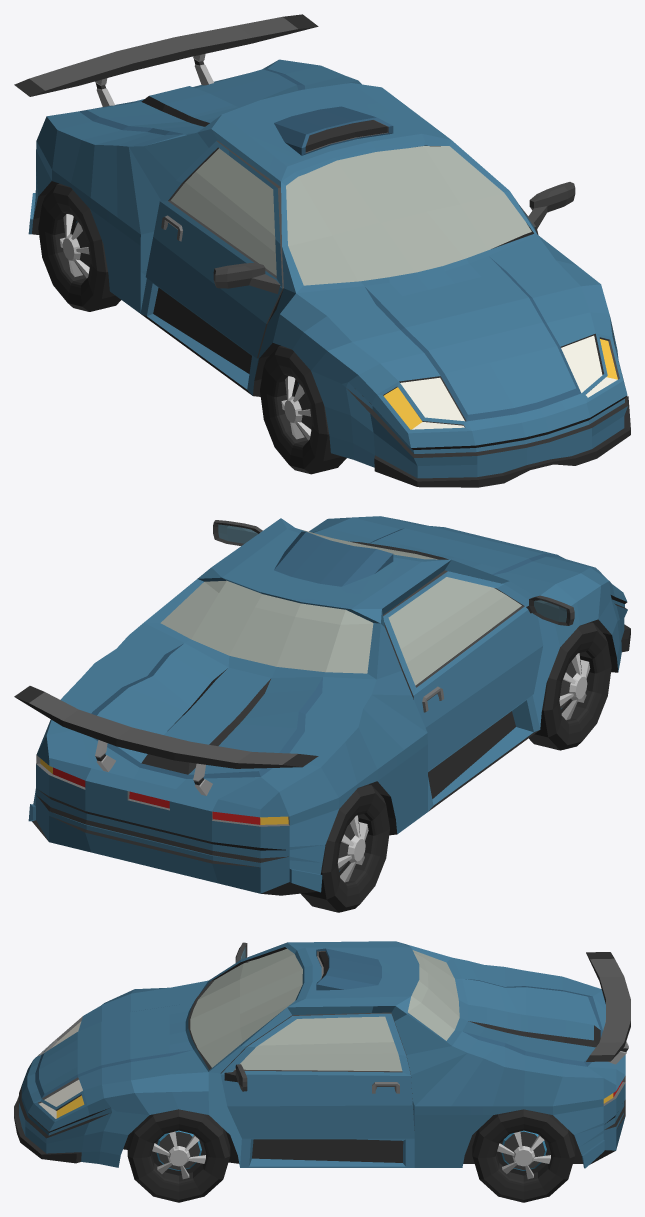
Rendered from Car-Sport_01.fbx.
The picture shows the model from 3 angles, top to bottom: view 1: azimuth 30°, elevation 25°; view 2: azimuth 150°, elevation 25°; view 3: azimuth 270°, elevation 25°; orthographic projection. The views are drawn at different scales.
Visible parts, largest first — view 1: Car-Sport_01, CAr-Sport_02.002, Wheel_Big_FrontL.013, Wheel_Big_FrontL.011, CAr-Sport_02.001; view 2: Car-Sport_01, CAr-Sport_02.002, Wheel_Big_FrontL.013, Wheel_Big_FrontL.011, CAr-Sport_02.001; view 3: Car-Sport_01, CAr-Sport_02.001, Wheel_Big_FrontL.014, Wheel_Big_FrontL.012.
Part boxes in pixels (bbox=[...]): Car-Sport_01: bbox=[14, 14, 630, 487]; CAr-Sport_02.002: bbox=[145, 140, 283, 358]; Wheel_Big_FrontL.013: bbox=[260, 346, 346, 474]; Wheel_Big_FrontL.011: bbox=[38, 183, 120, 311]; CAr-Sport_02.001: bbox=[519, 182, 575, 234]; Car-Sport_01: bbox=[14, 516, 630, 895]; CAr-Sport_02.002: bbox=[383, 570, 574, 771]; Wheel_Big_FrontL.013: bbox=[529, 622, 611, 750]; Wheel_Big_FrontL.011: bbox=[301, 784, 389, 912]; CAr-Sport_02.001: bbox=[213, 520, 262, 545]; Car-Sport_01: bbox=[14, 941, 630, 1168]; CAr-Sport_02.001: bbox=[220, 1012, 414, 1138]; Wheel_Big_FrontL.014: bbox=[127, 1109, 230, 1202]; Wheel_Big_FrontL.012: bbox=[472, 1109, 575, 1202].
Size of the model in its own units: 301 by 193 by 575.
